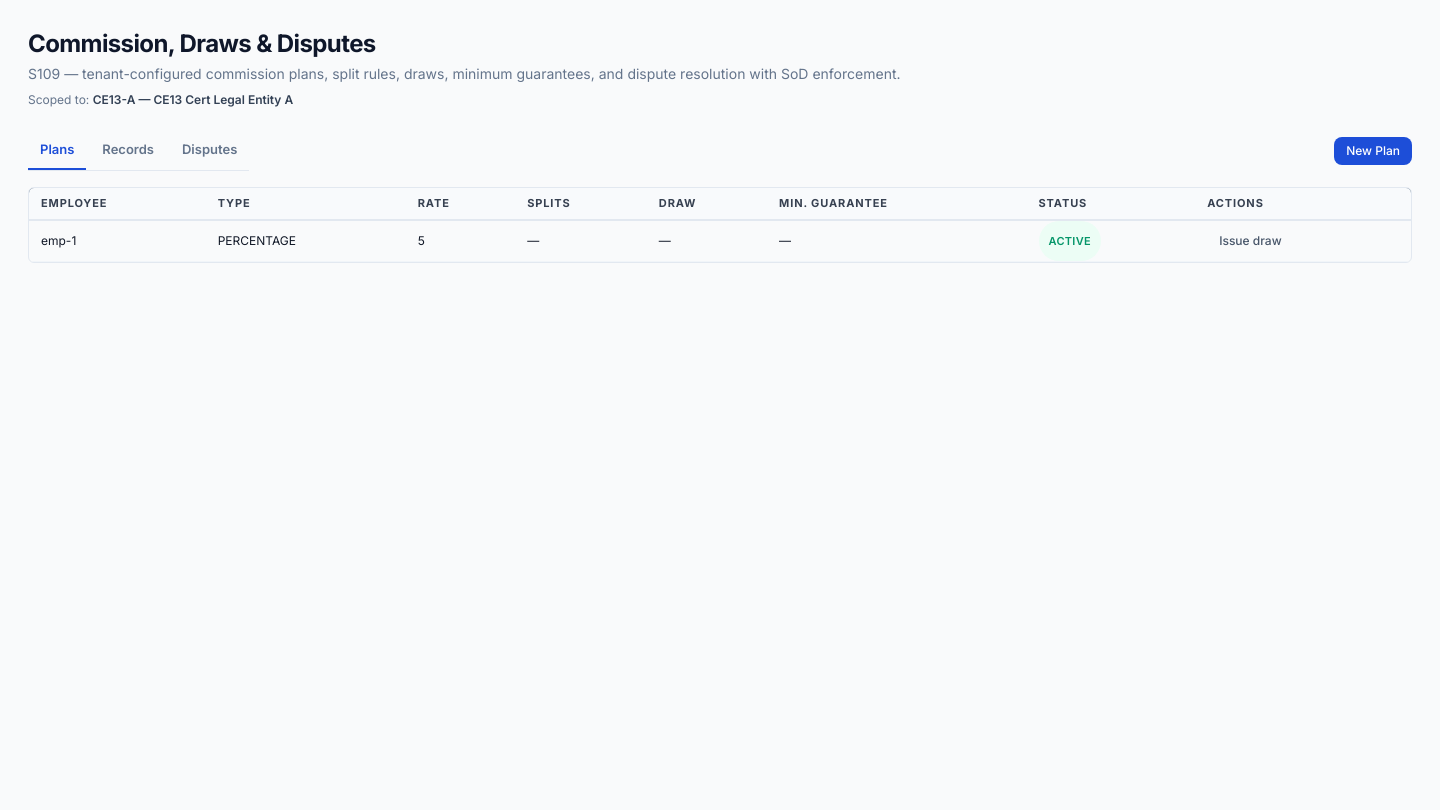
it: PayrollCommissionWorkbench — commission journal drill-down › shows plan/batch/journal lineage without overwriting the original journal, including a separate reversal journal
What coordinates should you click on to do the following:
click the button with test id "commission-tab-records"
I would click on:
 (128, 151)
Its box is [90, 132, 166, 170].
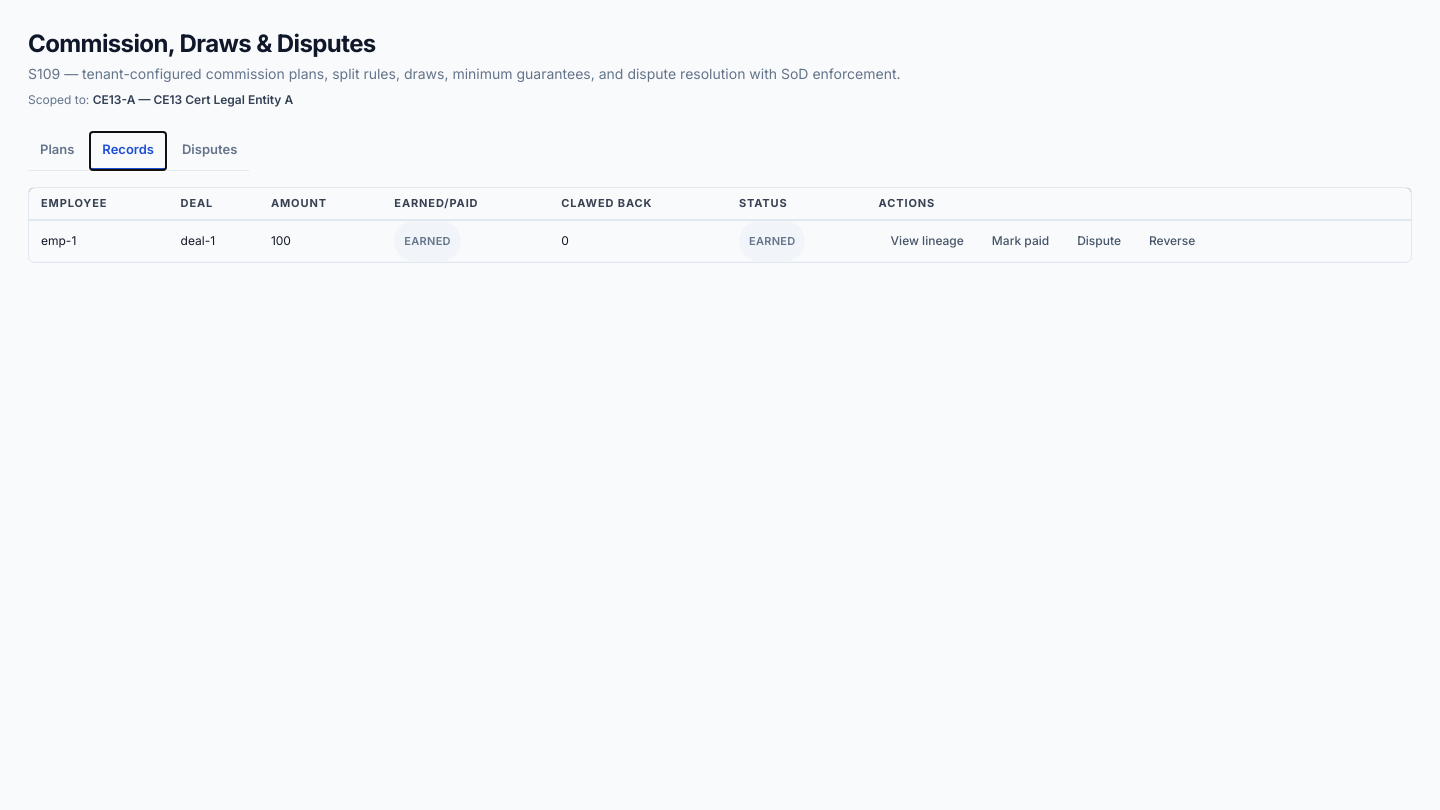
What coordinates should you click on to do the following:
click the button with test id "commission-record-lineage-rec-1"
I would click on:
 (927, 240)
Its box is [879, 226, 976, 254].
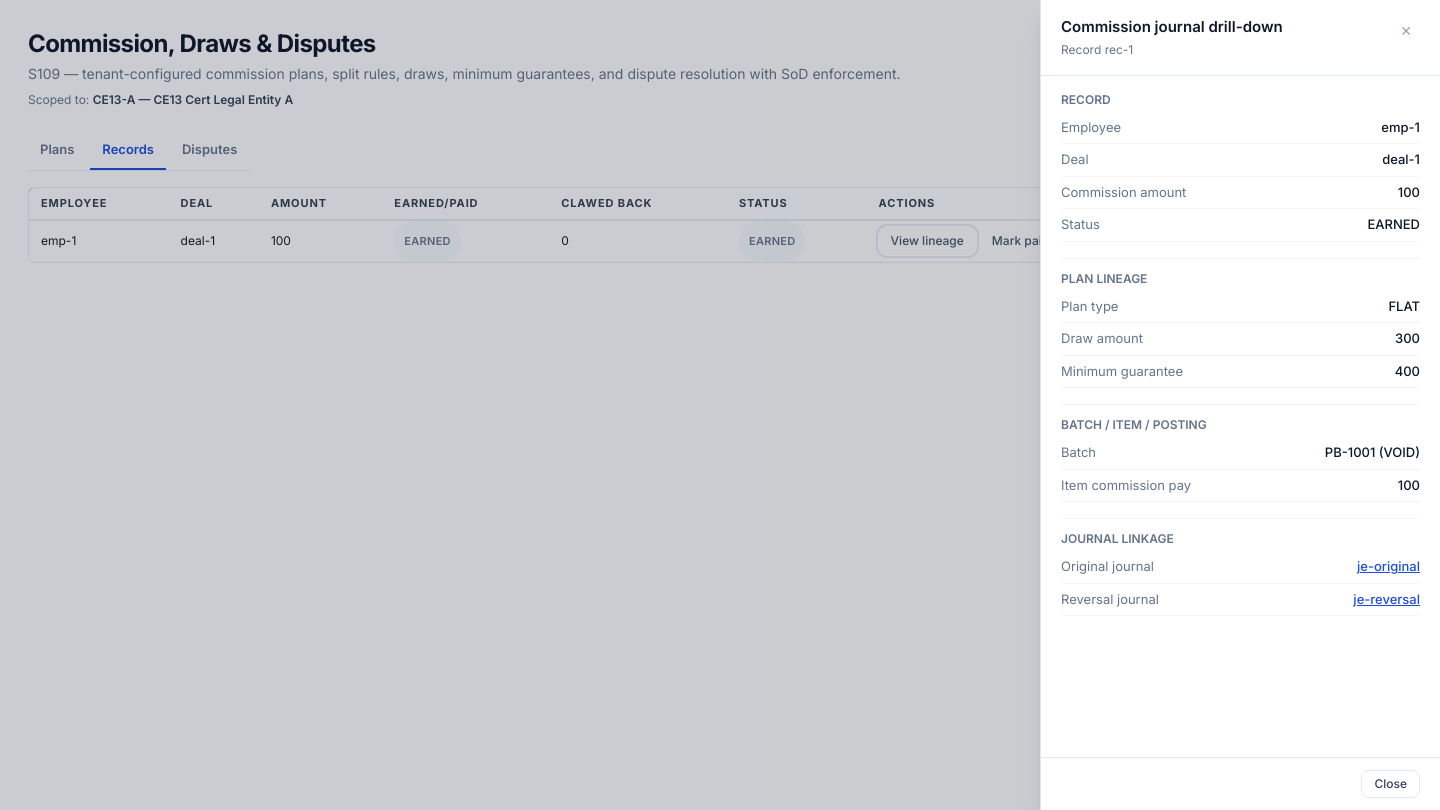
Result: the dialog with test id "commission-lineage-drawer" is shown at [1040, 0, 1439, 809]
Result: the link with test id "commission-lineage-original-journal" reads "je-original" at [1357, 558, 1420, 574]
Result: the link with test id "commission-lineage-reversal-journal" reads "je-reversal" at [1353, 590, 1420, 606]
